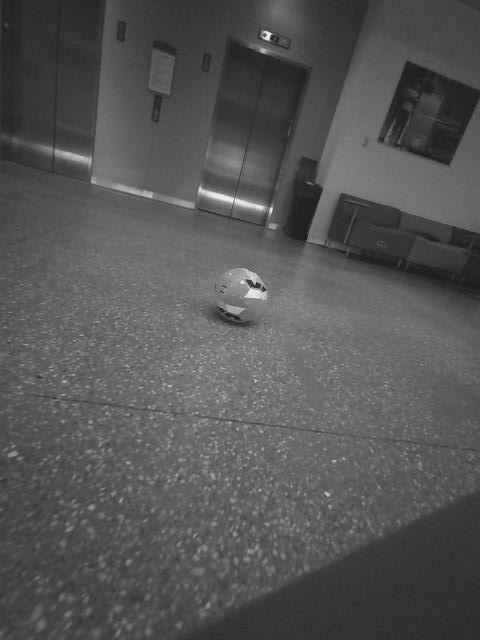ball: (112, 447, 178, 519)
